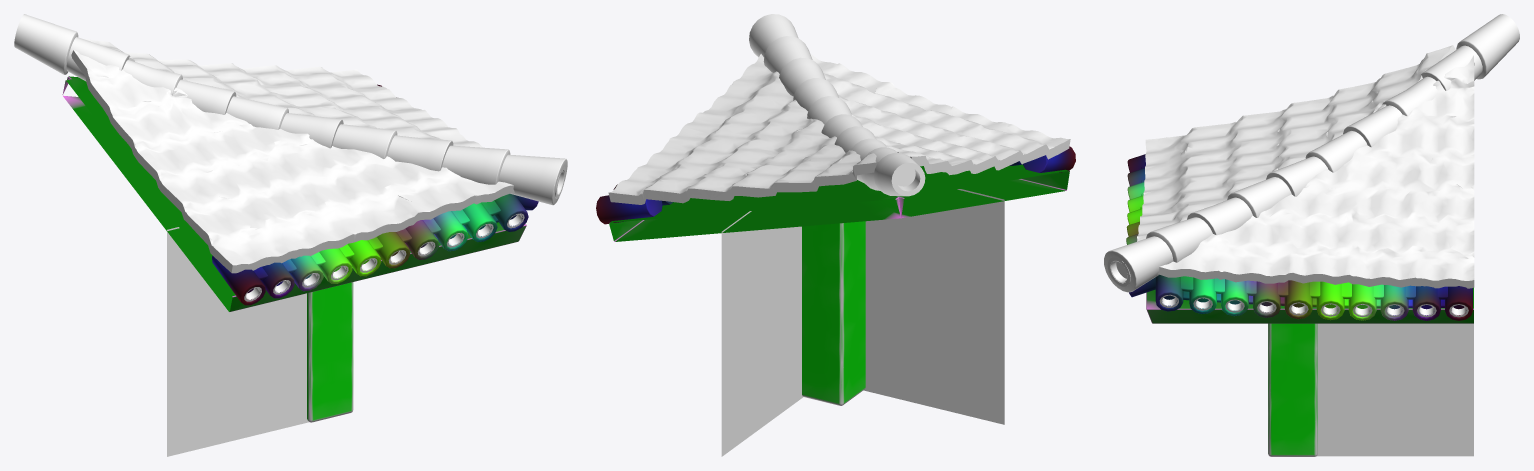
Rendered from roof_fenced_100_01_corner.fbx.
3 renders of one model, left to right at view 1: azimuth 30°, elevation 25°; view 2: azimuth 150°, elevation 25°; view 3: azimuth 270°, elevation 25°, orthographic. The views are drawn at different scales.
Parts seen in each view (by area): view 1: roof_fenced_100_01_corner; view 2: roof_fenced_100_01_corner; view 3: roof_fenced_100_01_corner.
Part boxes in pixels (left/top/right/bottom): roof_fenced_100_01_corner: left=14, top=14, right=567, bottom=456; roof_fenced_100_01_corner: left=596, top=14, right=1075, bottom=456; roof_fenced_100_01_corner: left=1104, top=14, right=1519, bottom=456.
Bounding box in the file's own units: 2.01 × 1.89 × 2.07.
